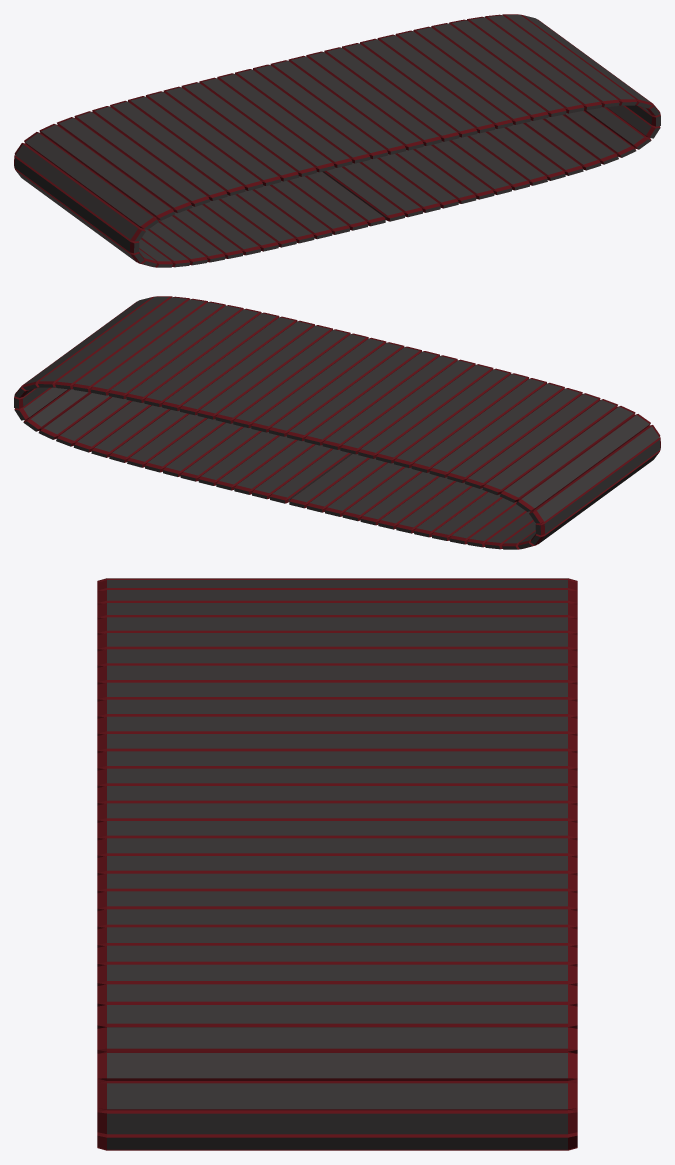
The model's file is Belt.fbx.
3 renders of one model, top to bottom at view 1: azimuth 30°, elevation 25°; view 2: azimuth 150°, elevation 25°; view 3: azimuth 270°, elevation 25°, orthographic. The views are drawn at different scales.
Visible parts, largest first — view 1: Cube; view 2: Cube; view 3: Cube.
Part boxes in pixels (left/top/right/bottom): Cube: left=14, top=14, right=660, bottom=267; Cube: left=14, top=296, right=660, bottom=549; Cube: left=97, top=578, right=577, bottom=1150.
Size of the model in its own units: 204 by 26.47 by 79.95.
